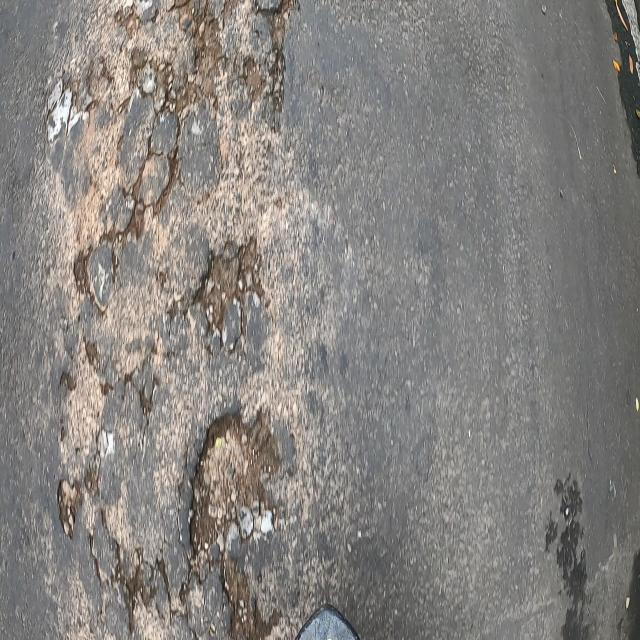Lubang: (190, 411, 280, 638), (195, 238, 262, 351), (58, 480, 82, 538)
